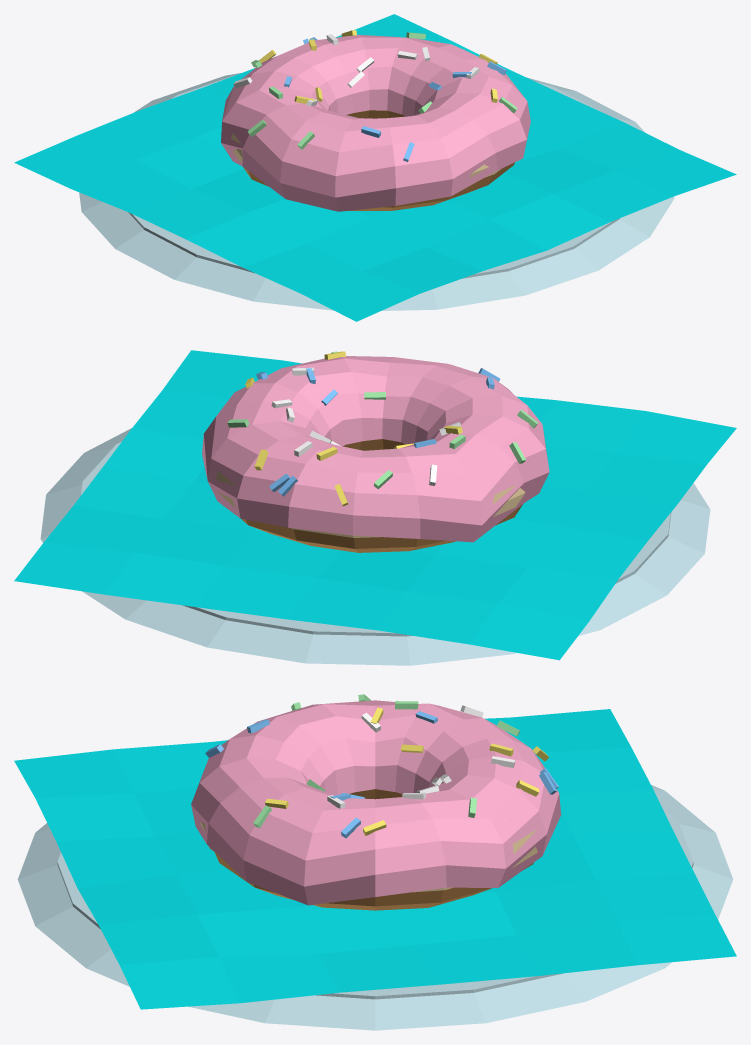
Rendered from Donut_Strawberry_Plate.fbx.
3 views of the same model, one above another, from view 1: azimuth 30°, elevation 25°; view 2: azimuth 150°, elevation 25°; view 3: azimuth 270°, elevation 25° (orthographic). The views are drawn at different scales.
Parts seen in each view (by area): view 1: Donut_Strawberry_Plate; view 2: Donut_Strawberry_Plate; view 3: Donut_Strawberry_Plate.
Part boxes in pixels (bbox=[...]): Donut_Strawberry_Plate: bbox=[14, 14, 736, 321]; Donut_Strawberry_Plate: bbox=[14, 350, 736, 665]; Donut_Strawberry_Plate: bbox=[14, 694, 736, 1030].
Size of the model in its own units: 0.8184 by 0.1593 by 0.8184.
